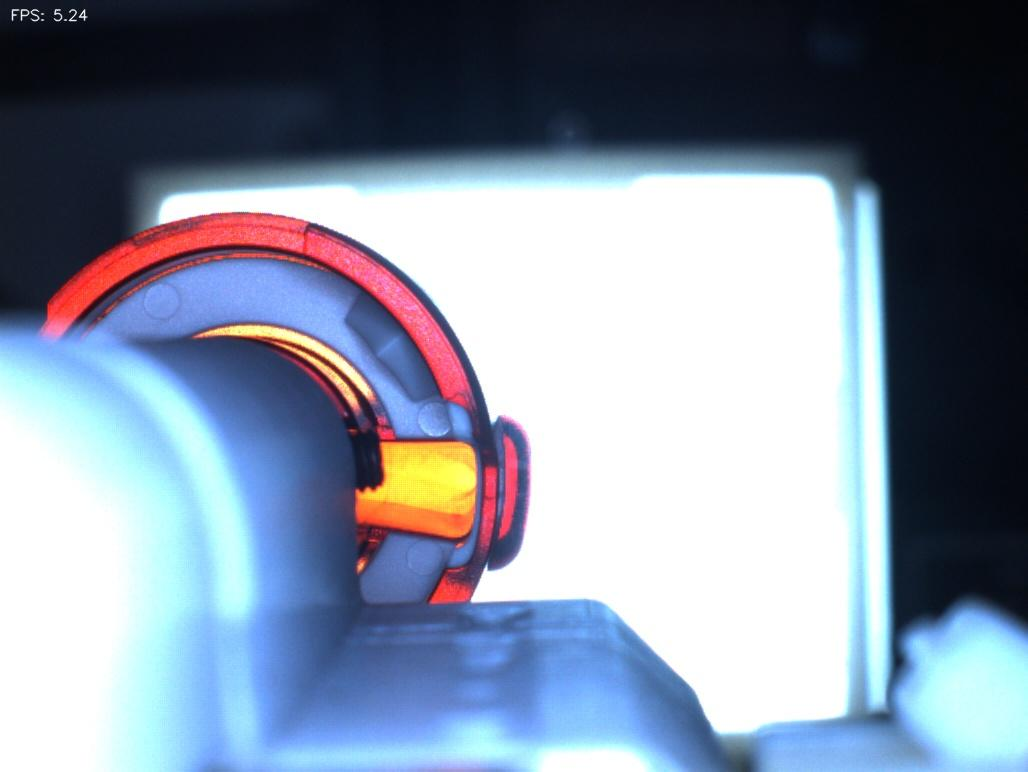Retassure: (388, 440, 483, 516)
